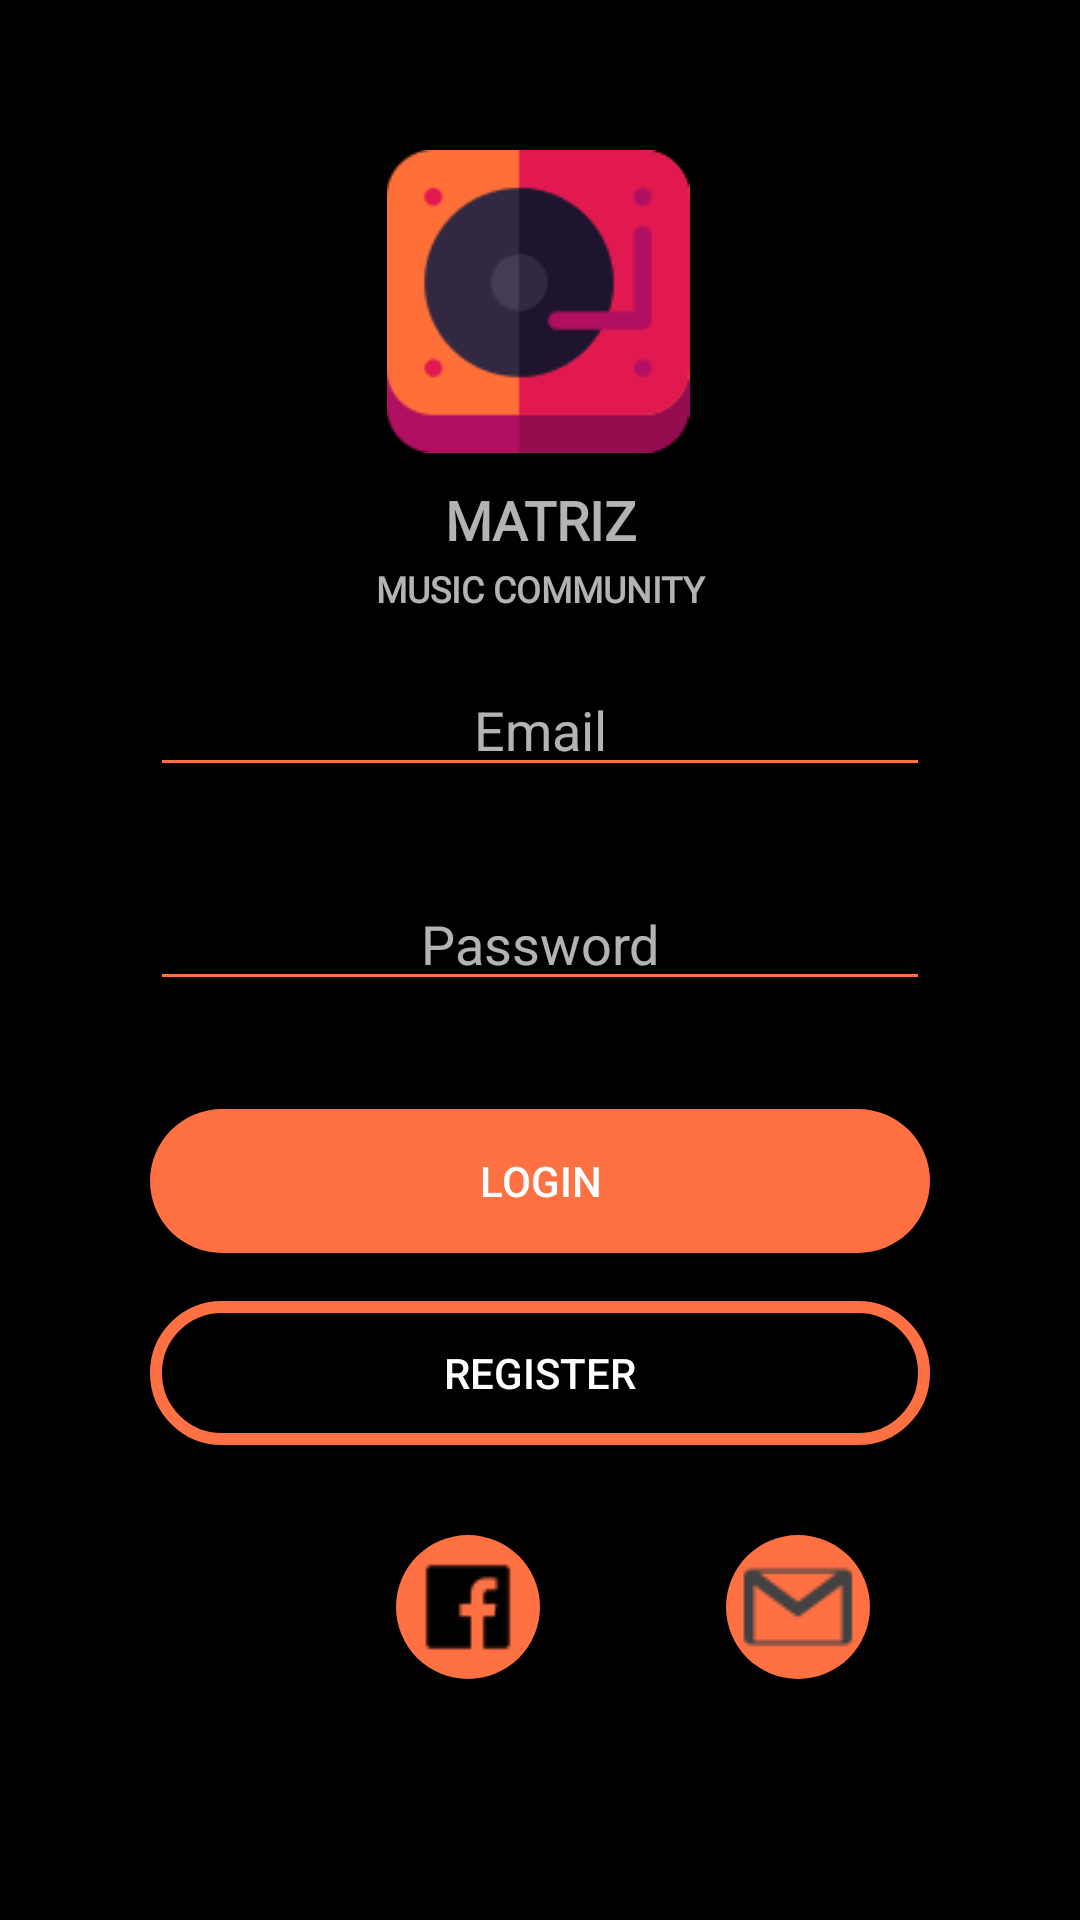

Icon bounding boxes for this 1080×1920 phone screenshot, format box(x1, y1, x2, y2):
gmail: box(726, 1535, 870, 1679)
vinilo: box(387, 150, 690, 453)
